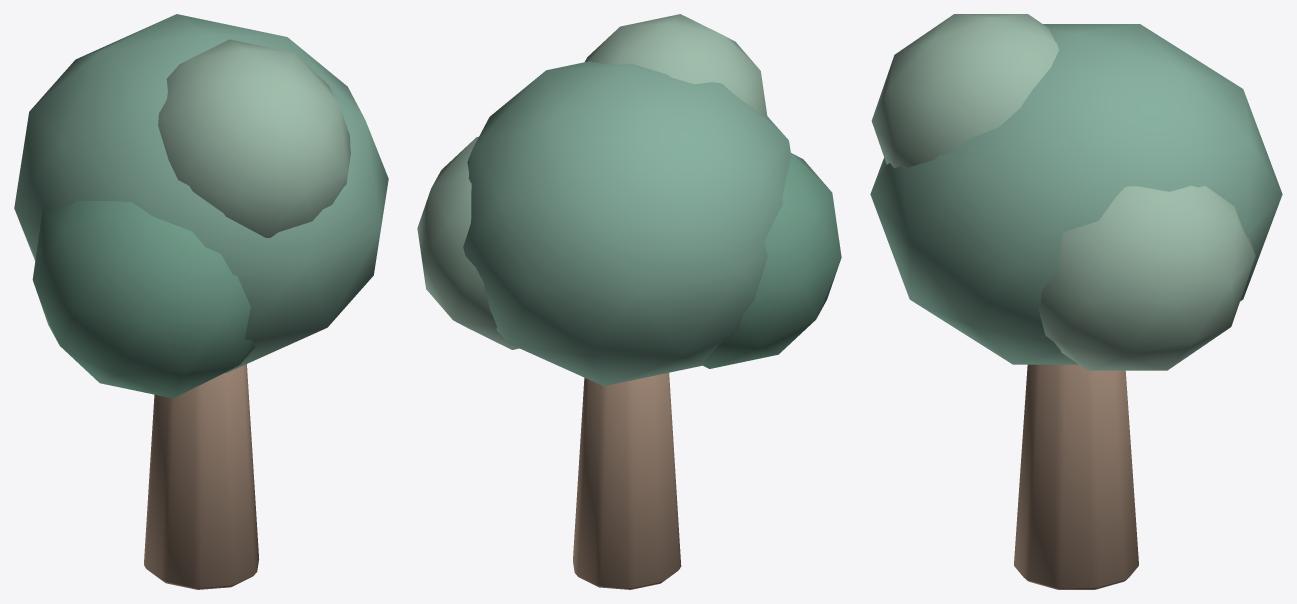
File: tree-round.glb
The picture shows the model from 3 angles, left to right: view 1: azimuth 30°, elevation 25°; view 2: azimuth 150°, elevation 25°; view 3: azimuth 270°, elevation 25°; orthographic projection. The views are drawn at different scales.
Parts seen in each view (by area): view 1: tree-round; view 2: tree-round; view 3: tree-round.
Boxes of the visible parts, x1=… form: tree-round: x1=14, y1=14, x2=388, y2=589; tree-round: x1=417, y1=14, x2=841, y2=589; tree-round: x1=870, y1=14, x2=1282, y2=589.
Bounding box in the file's own units: 1.02 × 1.5 × 1.02.
